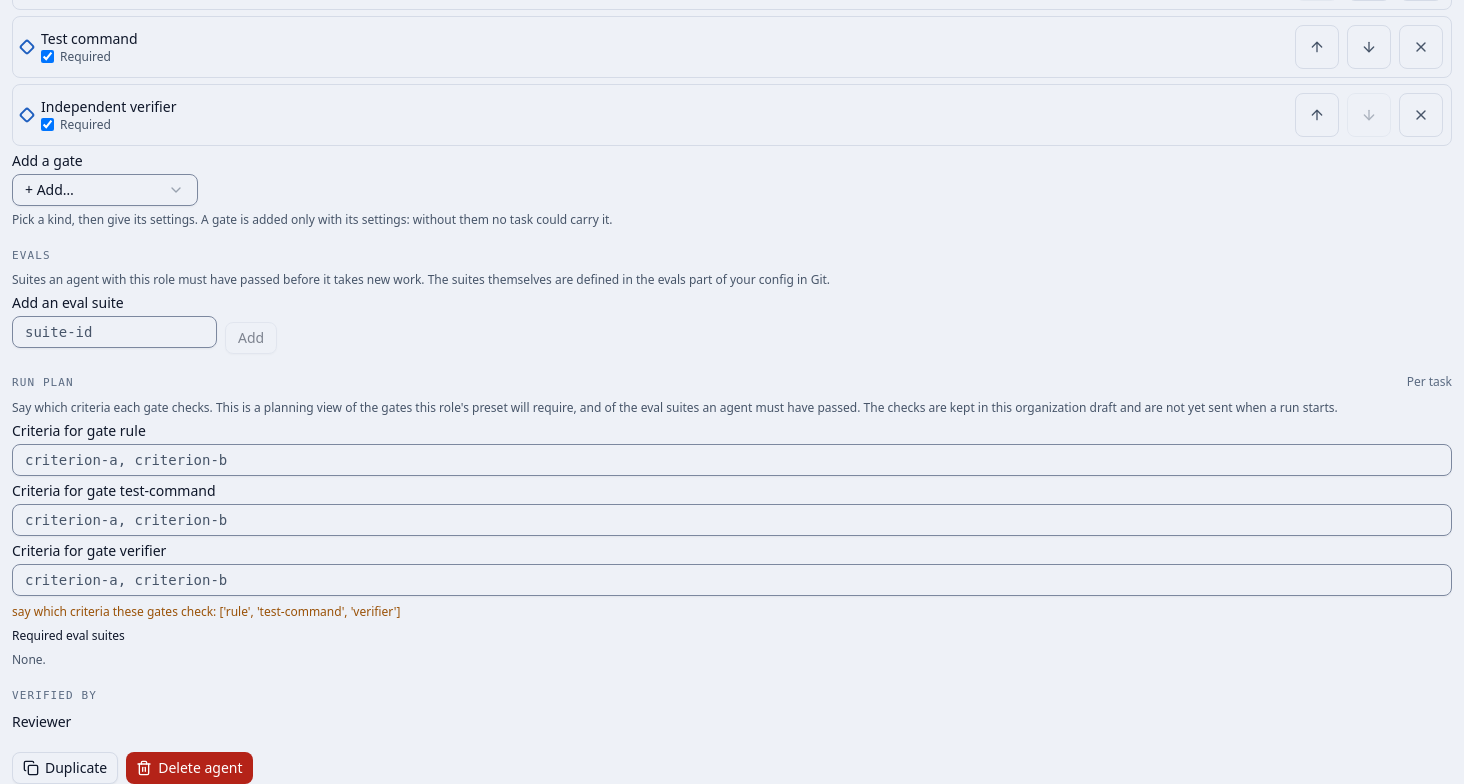
Test case: Run plan section › stores checks in the document, shows the instantiated gates and survives save and load
The width and height of the screenshot is (1464, 784).
(page scrolled)
In the field labelled "Criteria for gate rule": coordinates (732, 460) [12,444,1452,476], type "style, lint"
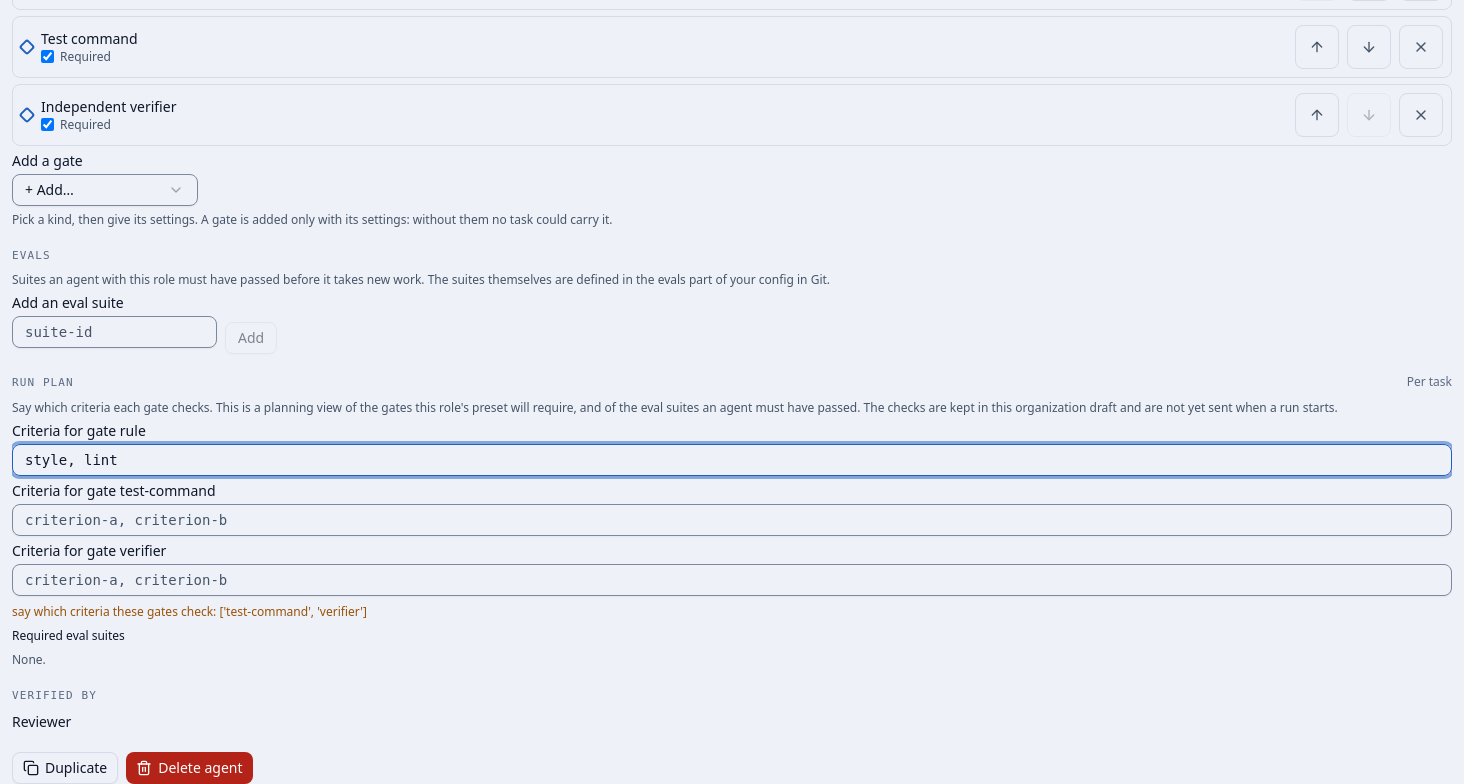
In the field labelled "Criteria for gate test-command": coordinates (732, 520) [12,504,1452,536], type "green"
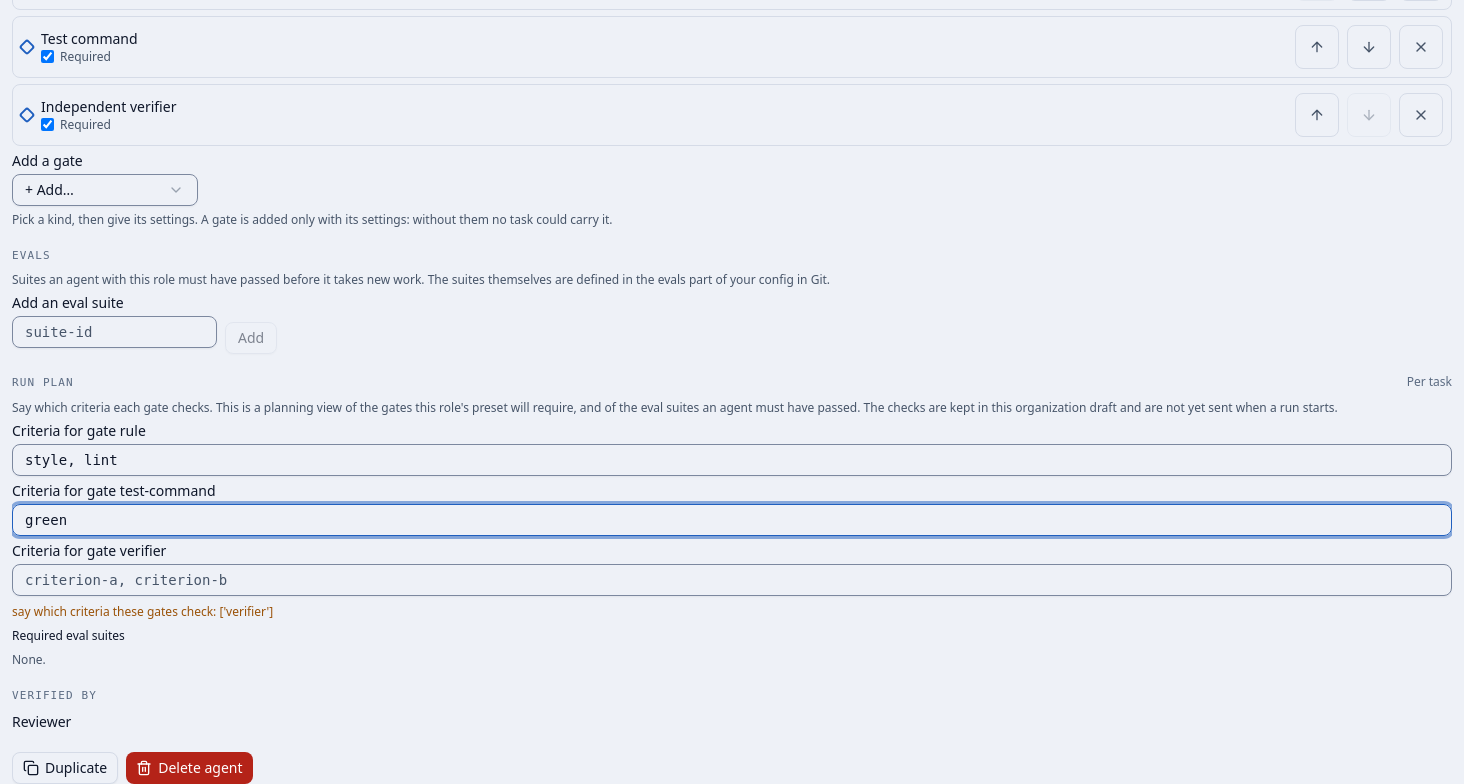
In the field labelled "Criteria for gate verifier": coordinates (732, 580) [12,564,1452,596], type "done"
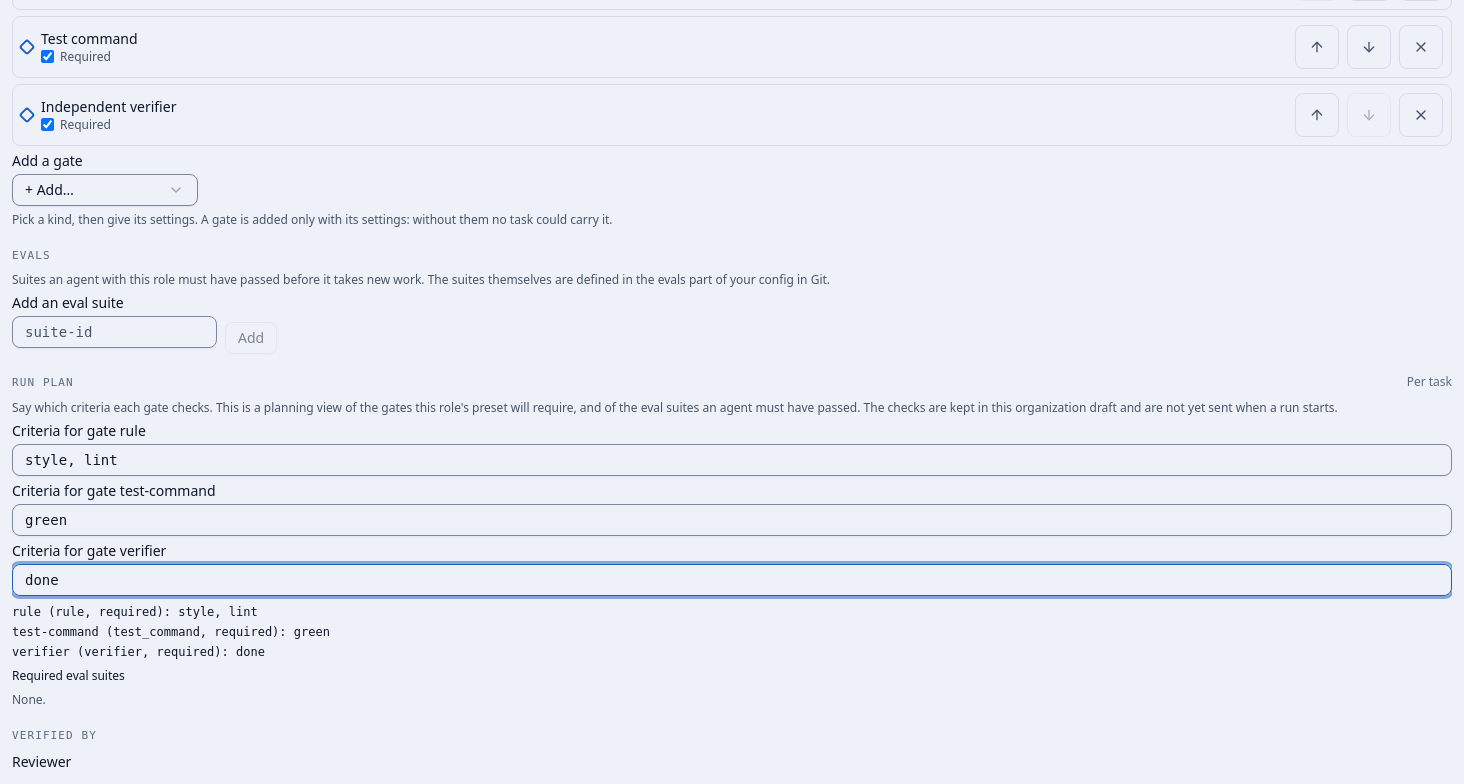
Now the list named "Instantiated gates" shows "rule", box [12,605,41,619]
Now the list named "Instantiated gates" shows "style, lint", box [178,605,258,619]
